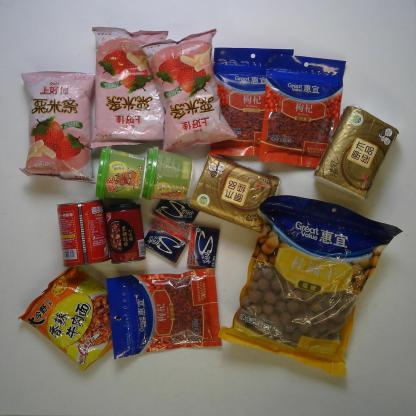Canned Food: (56, 198, 112, 268), (104, 200, 146, 265)
Dried Food: (217, 192, 404, 378)
Dried Fruit: (106, 267, 223, 360), (258, 52, 346, 168), (210, 45, 294, 157)
Gum: (144, 219, 190, 265), (150, 197, 200, 235), (186, 224, 220, 268)
Instant Drink: (141, 145, 195, 203), (94, 145, 148, 201)
Instant Noodles: (15, 264, 113, 373)
Puffed Food: (140, 28, 239, 152), (89, 25, 169, 148), (17, 70, 98, 185)
Tissue: (311, 103, 399, 202), (188, 154, 282, 235)
